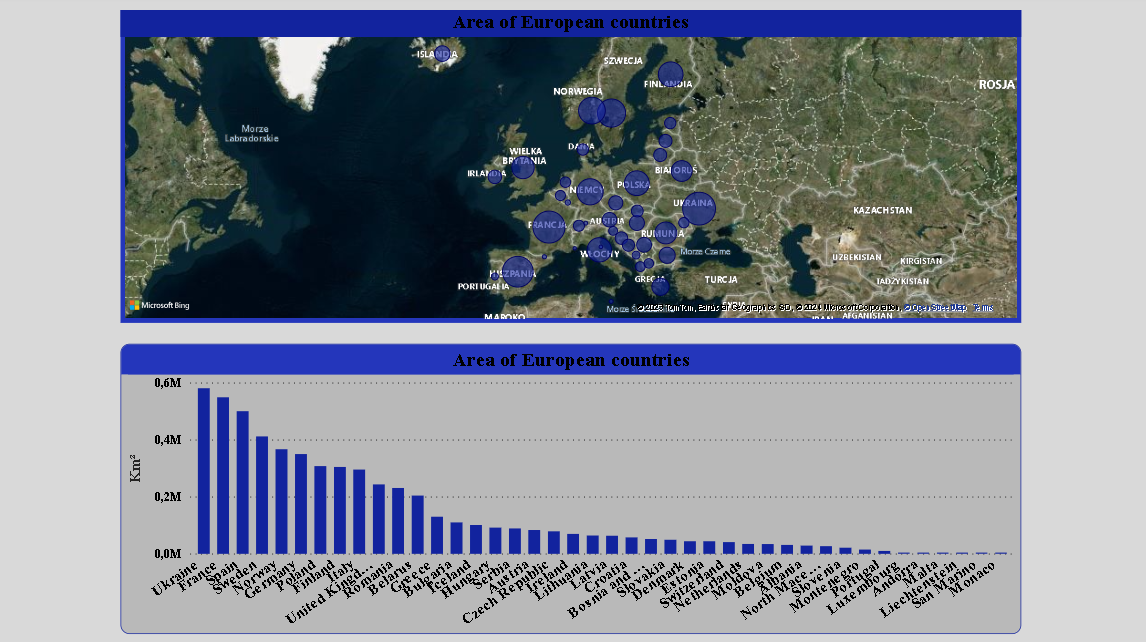

What the dashboard file says about the page in this screenshot:
{"tool":"powerbi","page":{"name":"Page 1","canvas":[1280,720],"ordinal":0},"visuals":[{"type":"map","title":"Area of European countries","fields":{"Category":["area.Country"],"Size":["Sum(area.Area)"]},"box":[145.5,16.5,988,343.1],"z":2000},{"type":"columnChart","title":"Area of European countries","fields":{"Y":["Sum(area.Area)"],"Category":["area.Country"]},"box":[145.5,382.8,988,318.4],"z":3000}]}

Visuals, with their boxes in screenshot pixels (x1, y1, x2, y2), scaled from the page's 1280x720 canvas onto the 1146x642 screenshot:
"Area of European countries" map: detection(130, 15, 1015, 321)
"Area of European countries" columnChart: detection(130, 341, 1015, 625)
